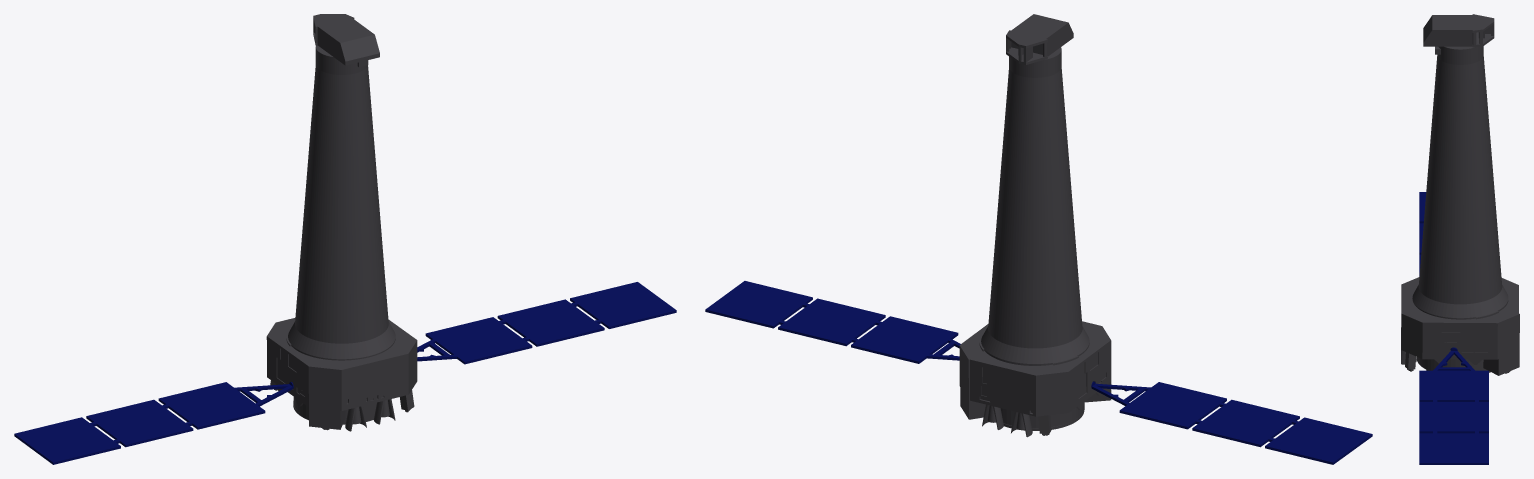
Rendered from chandra.glb.
3 renders of one model, left to right at view 1: azimuth 30°, elevation 25°; view 2: azimuth 150°, elevation 25°; view 3: azimuth 270°, elevation 25°, orthographic. The views are drawn at different scales.
Parts seen in each view (by area): view 1: Chandracylinder, Chandrabase, Chandrapanel.001, Chandrapanel, Chandratop; view 2: Chandracylinder, Chandrabase, Chandrapanel.001, Chandrapanel, Chandratop; view 3: Chandracylinder, Chandrabase, Chandrapanel, Chandratop, Chandrapanel.001.
Part boxes in pixels (left/top/right/bottom): Chandracylinder: left=286, top=45, right=395, bottom=360; Chandrabase: left=266, top=318, right=417, bottom=431; Chandrapanel.001: left=14, top=382, right=293, bottom=464; Chandrapanel: left=417, top=282, right=676, bottom=364; Chandratop: left=313, top=14, right=379, bottom=65; Chandracylinder: left=979, top=47, right=1089, bottom=365; Chandrabase: left=959, top=321, right=1111, bottom=437; Chandrapanel.001: left=1091, top=381, right=1372, bottom=464; Chandrapanel: left=705, top=281, right=960, bottom=363; Chandratop: left=1006, top=14, right=1073, bottom=64; Chandracylinder: left=1412, top=46, right=1508, bottom=349; Chandrabase: left=1401, top=277, right=1519, bottom=375; Chandrapanel: left=1419, top=347, right=1488, bottom=464; Chandratop: left=1423, top=14, right=1494, bottom=47; Chandrapanel.001: left=1419, top=192, right=1426, bottom=276.
Bounding box in the file's own units: 207 × 120 × 38.41.
